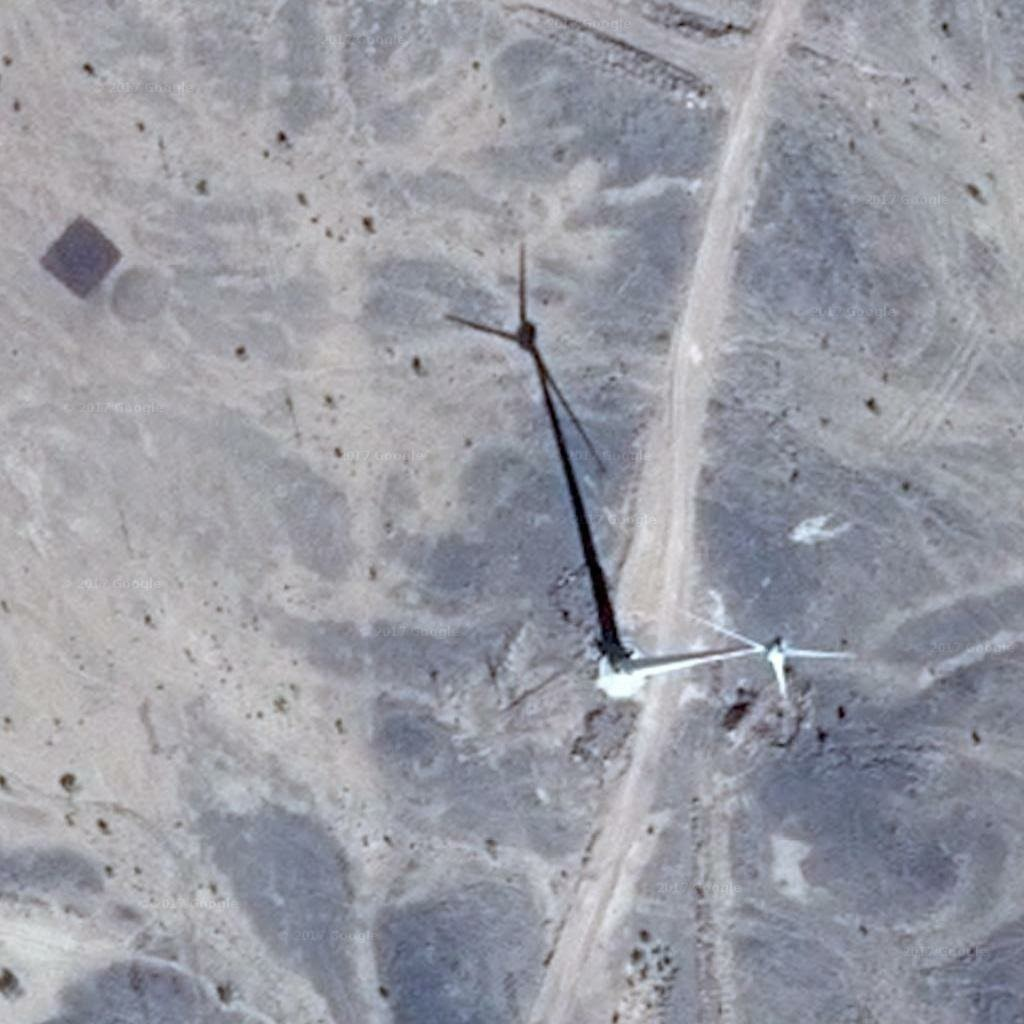Windmill: (437, 234, 644, 605)
